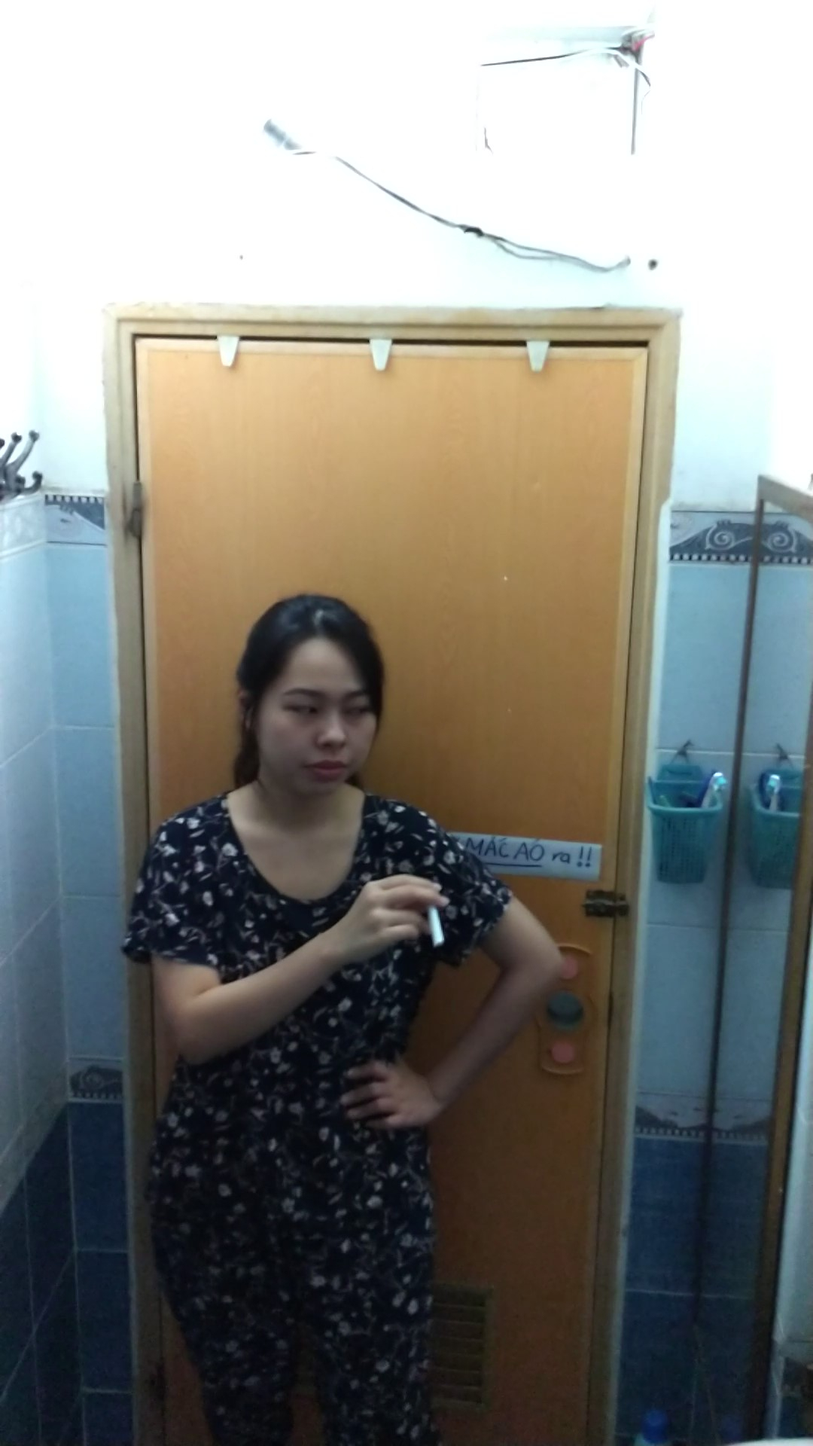cigarette: (425, 905, 449, 953)
person: (114, 590, 571, 1446)
